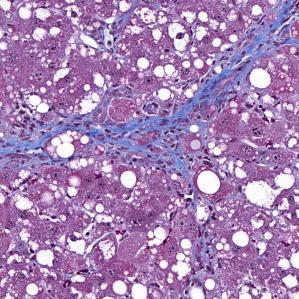fibrosis: (97, 116, 198, 170), (228, 41, 263, 69)
